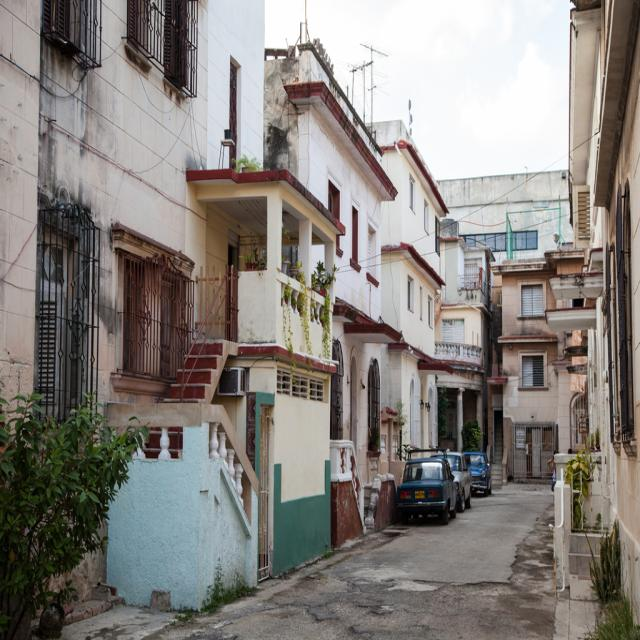car: (392, 445, 461, 520)
